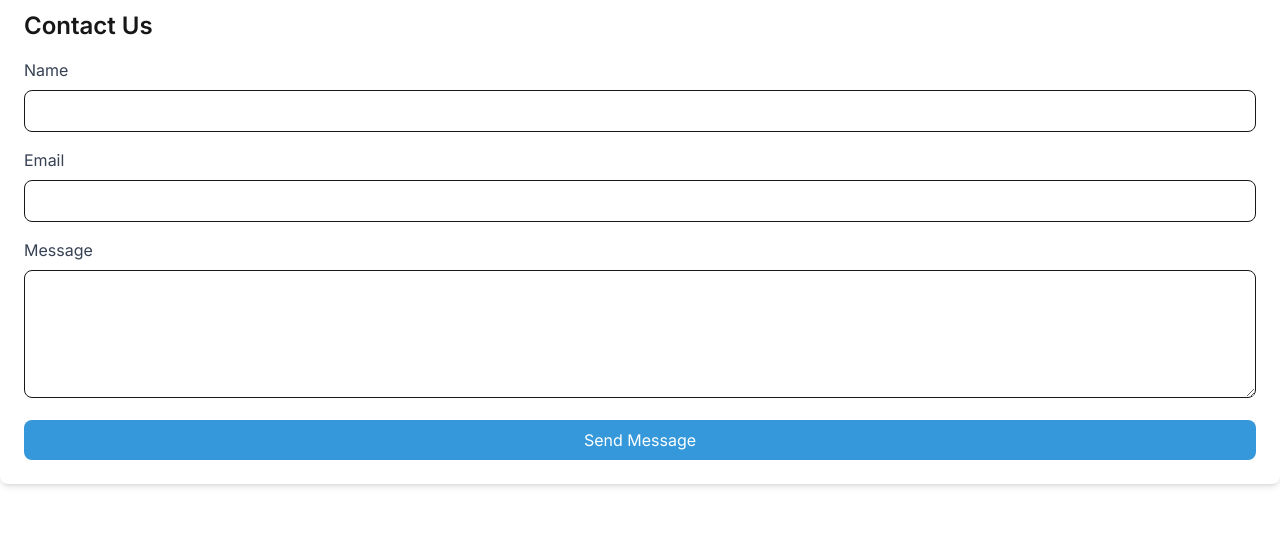
Test: ContactForm › shows error message when form submission fails
This screenshot has width=1280, height=545.
Fill out the form
Type "John Doe" into the field labelled "Name".
click(640, 111); type("John Doe")  # box [24, 90, 1256, 132]
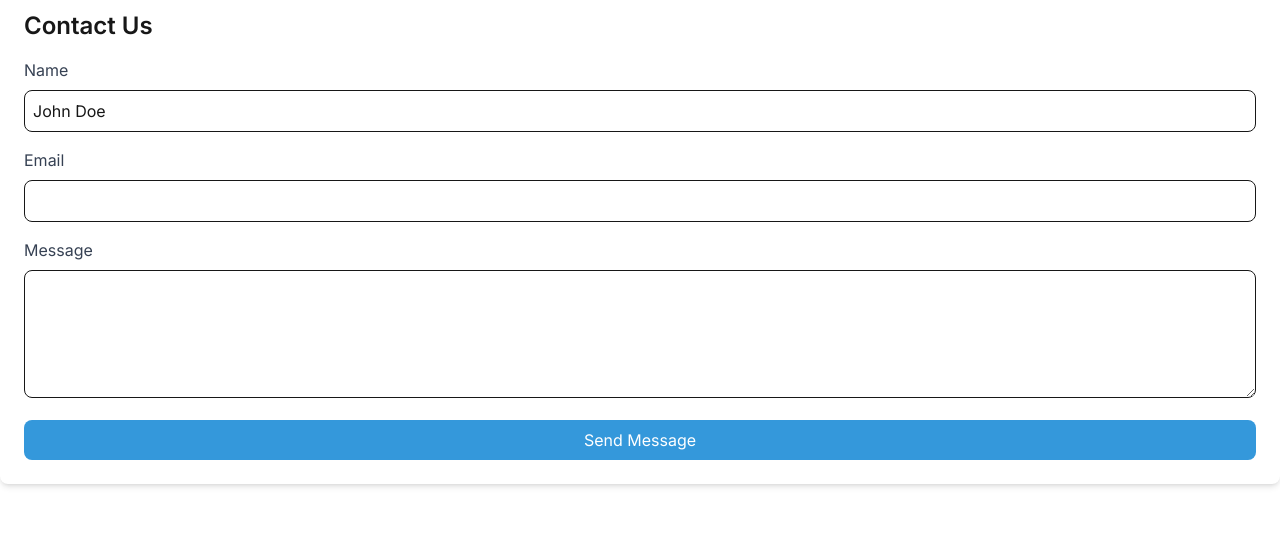
Type "john@example.com" into the field labelled "Email".
click(640, 201); type("john@example.com")  # box [24, 180, 1256, 222]
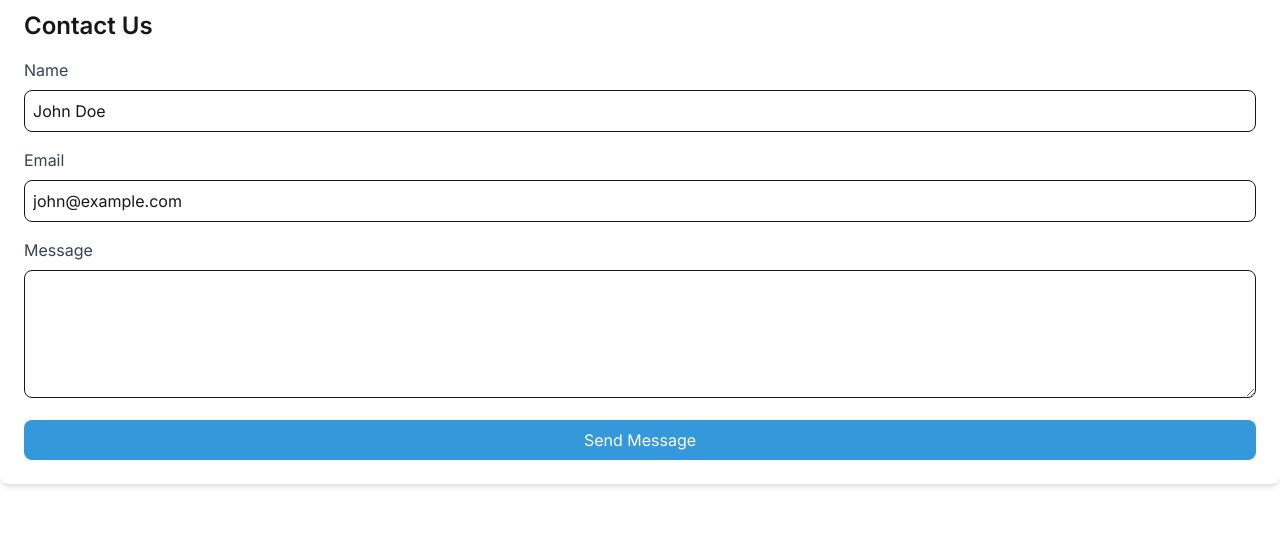
Type "Hello there!" into the text box labelled "Message".
click(640, 334); type("Hello there!")  # box [24, 270, 1256, 398]
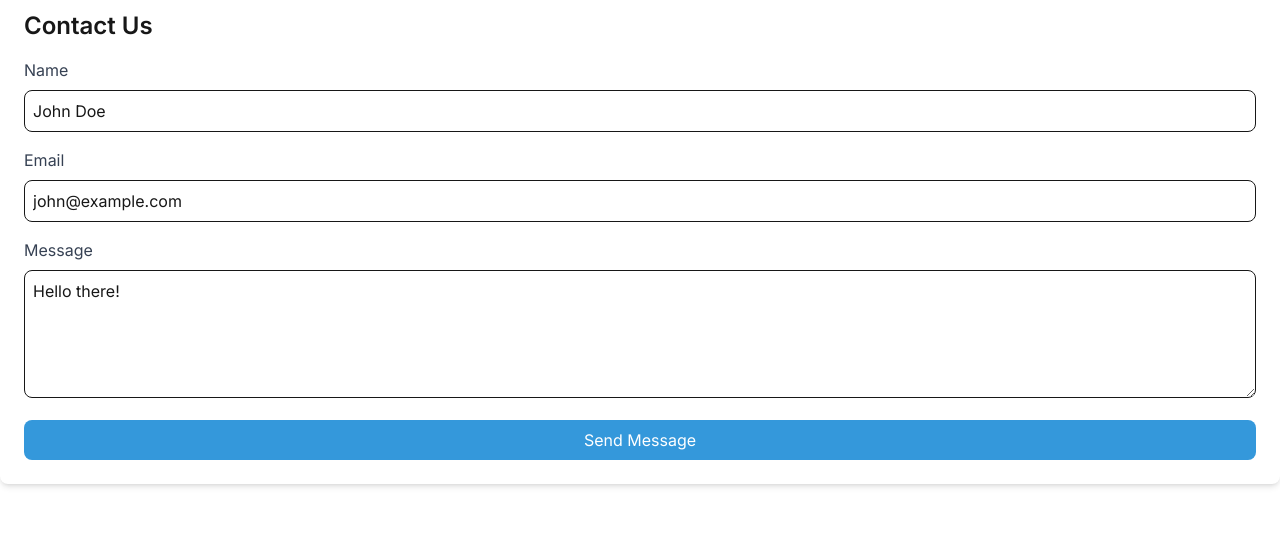
Submit the form
Click the button "Send Message".
click(640, 440)  # box [24, 420, 1256, 460]
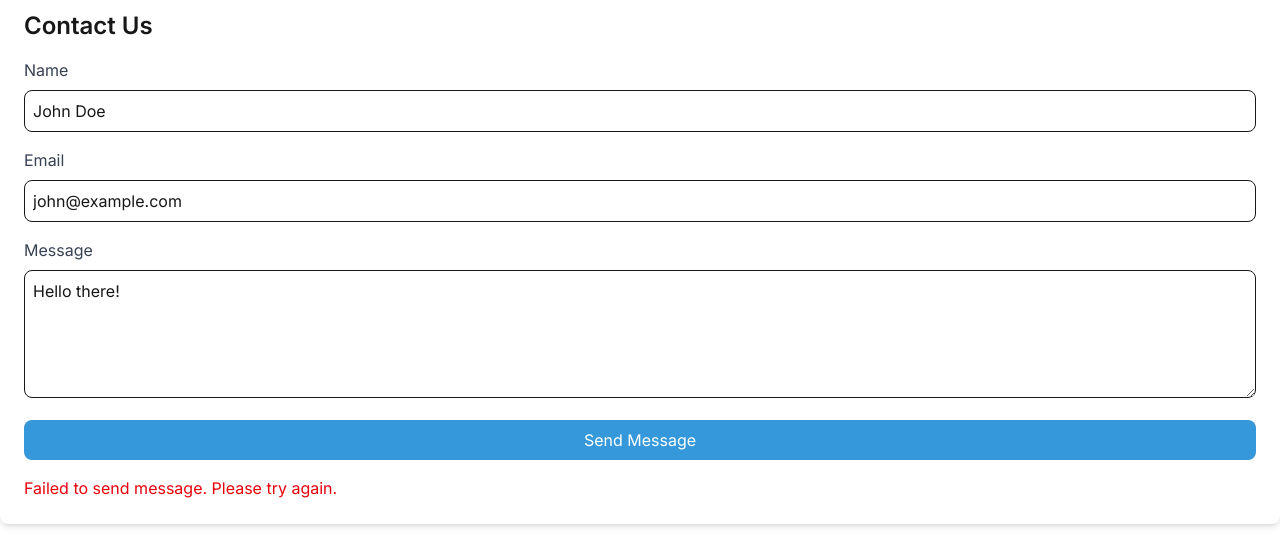
Now the text "Failed to send message. Please try again." is shown, box [24, 478, 337, 498]
